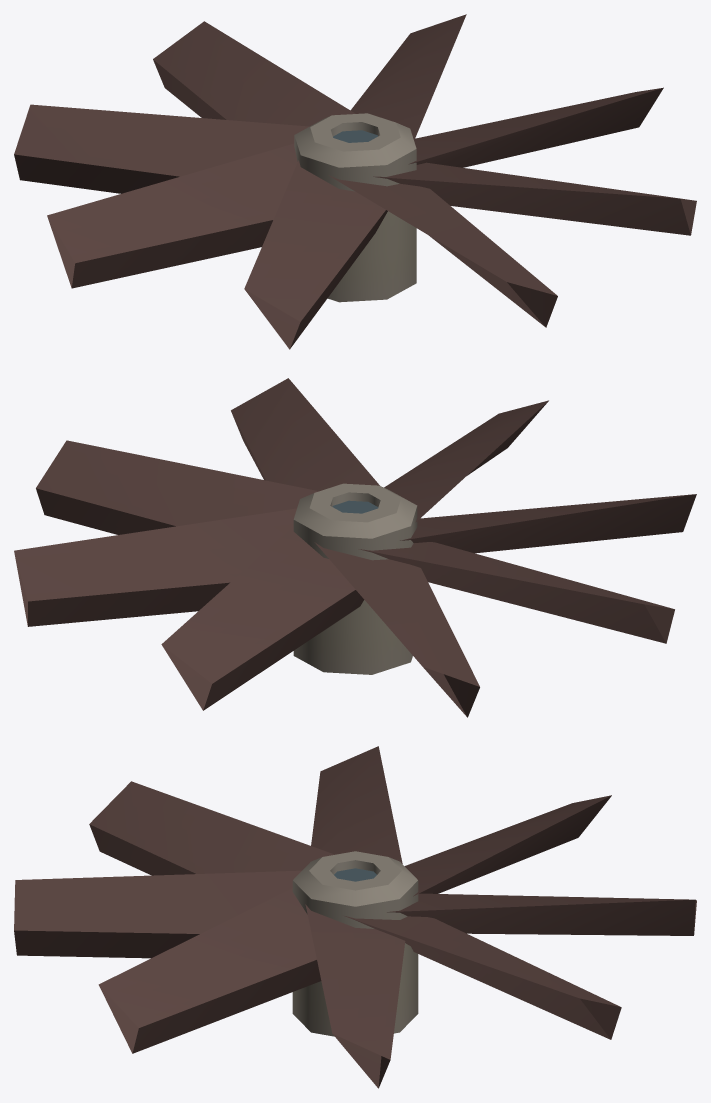
Rendered from TFan_C.fbx.
3 views of the same model, one above another, from view 1: azimuth 30°, elevation 25°; view 2: azimuth 150°, elevation 25°; view 3: azimuth 270°, elevation 25° (orthographic). The views are drawn at different scales.
Visible parts, largest first — view 1: TFan_C; view 2: TFan_C; view 3: TFan_C.
Boxes of the visible parts, x1,y1,x2,y2 form: TFan_C: [14, 14, 696, 349]; TFan_C: [14, 378, 696, 717]; TFan_C: [14, 746, 696, 1088].
Bounding box in the file's own units: 86.98 × 20.08 × 86.98.
